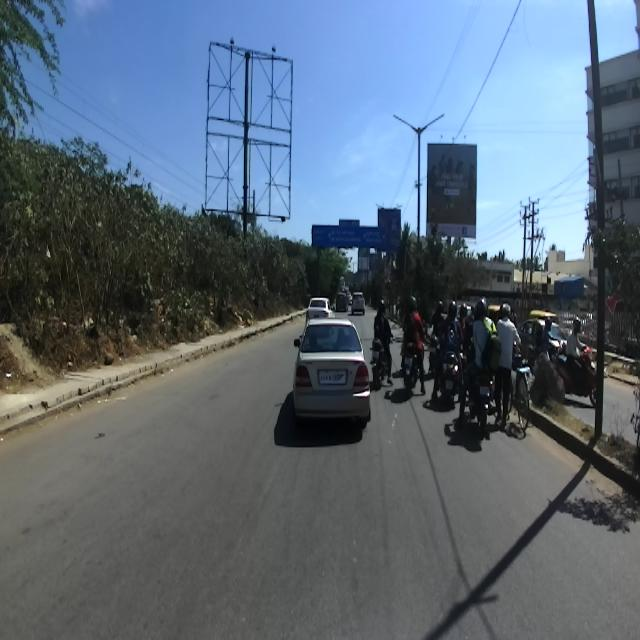car ahead at: (294, 303, 374, 429)
